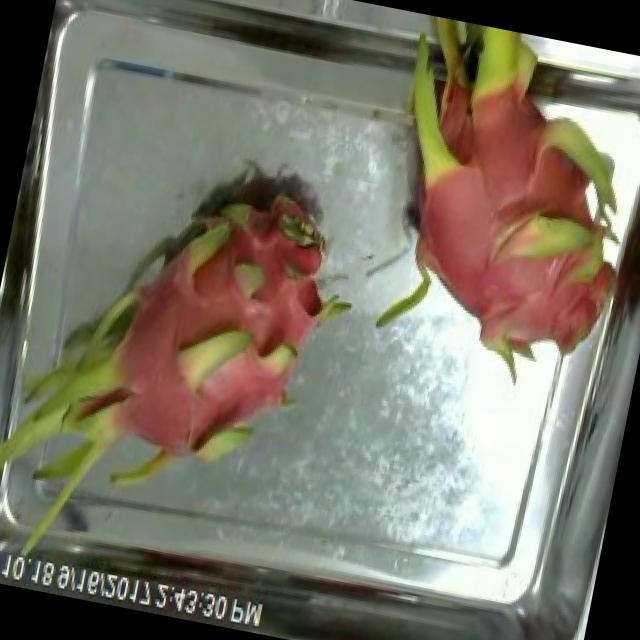Fruit: (421, 174, 629, 388)
